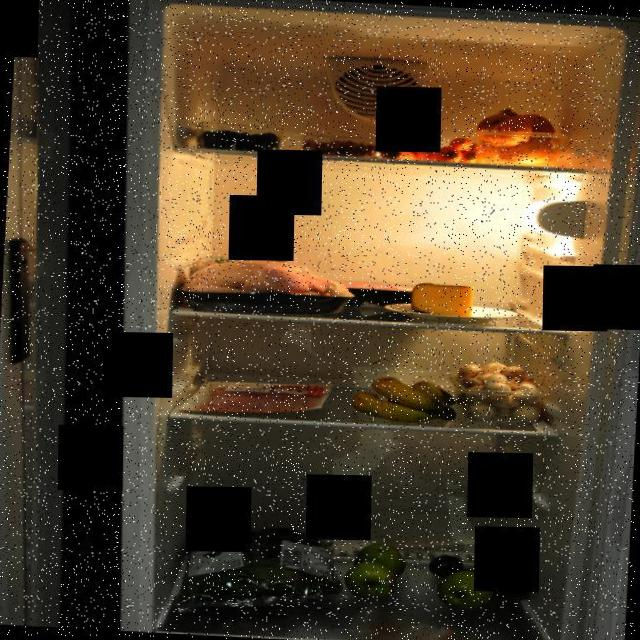Carne cerdo: (194, 376, 326, 416)
Carne pollo: (178, 253, 357, 314)
Cebolla: (472, 104, 565, 168)
Champiñones: (450, 358, 548, 423)
Gambas/Langostinos: (298, 134, 382, 157)
Manzana: (345, 534, 413, 606), (434, 570, 492, 614)
Plátano: (350, 372, 464, 426)
Queso: (406, 279, 476, 319)
Zanahoria: (378, 132, 484, 164)
